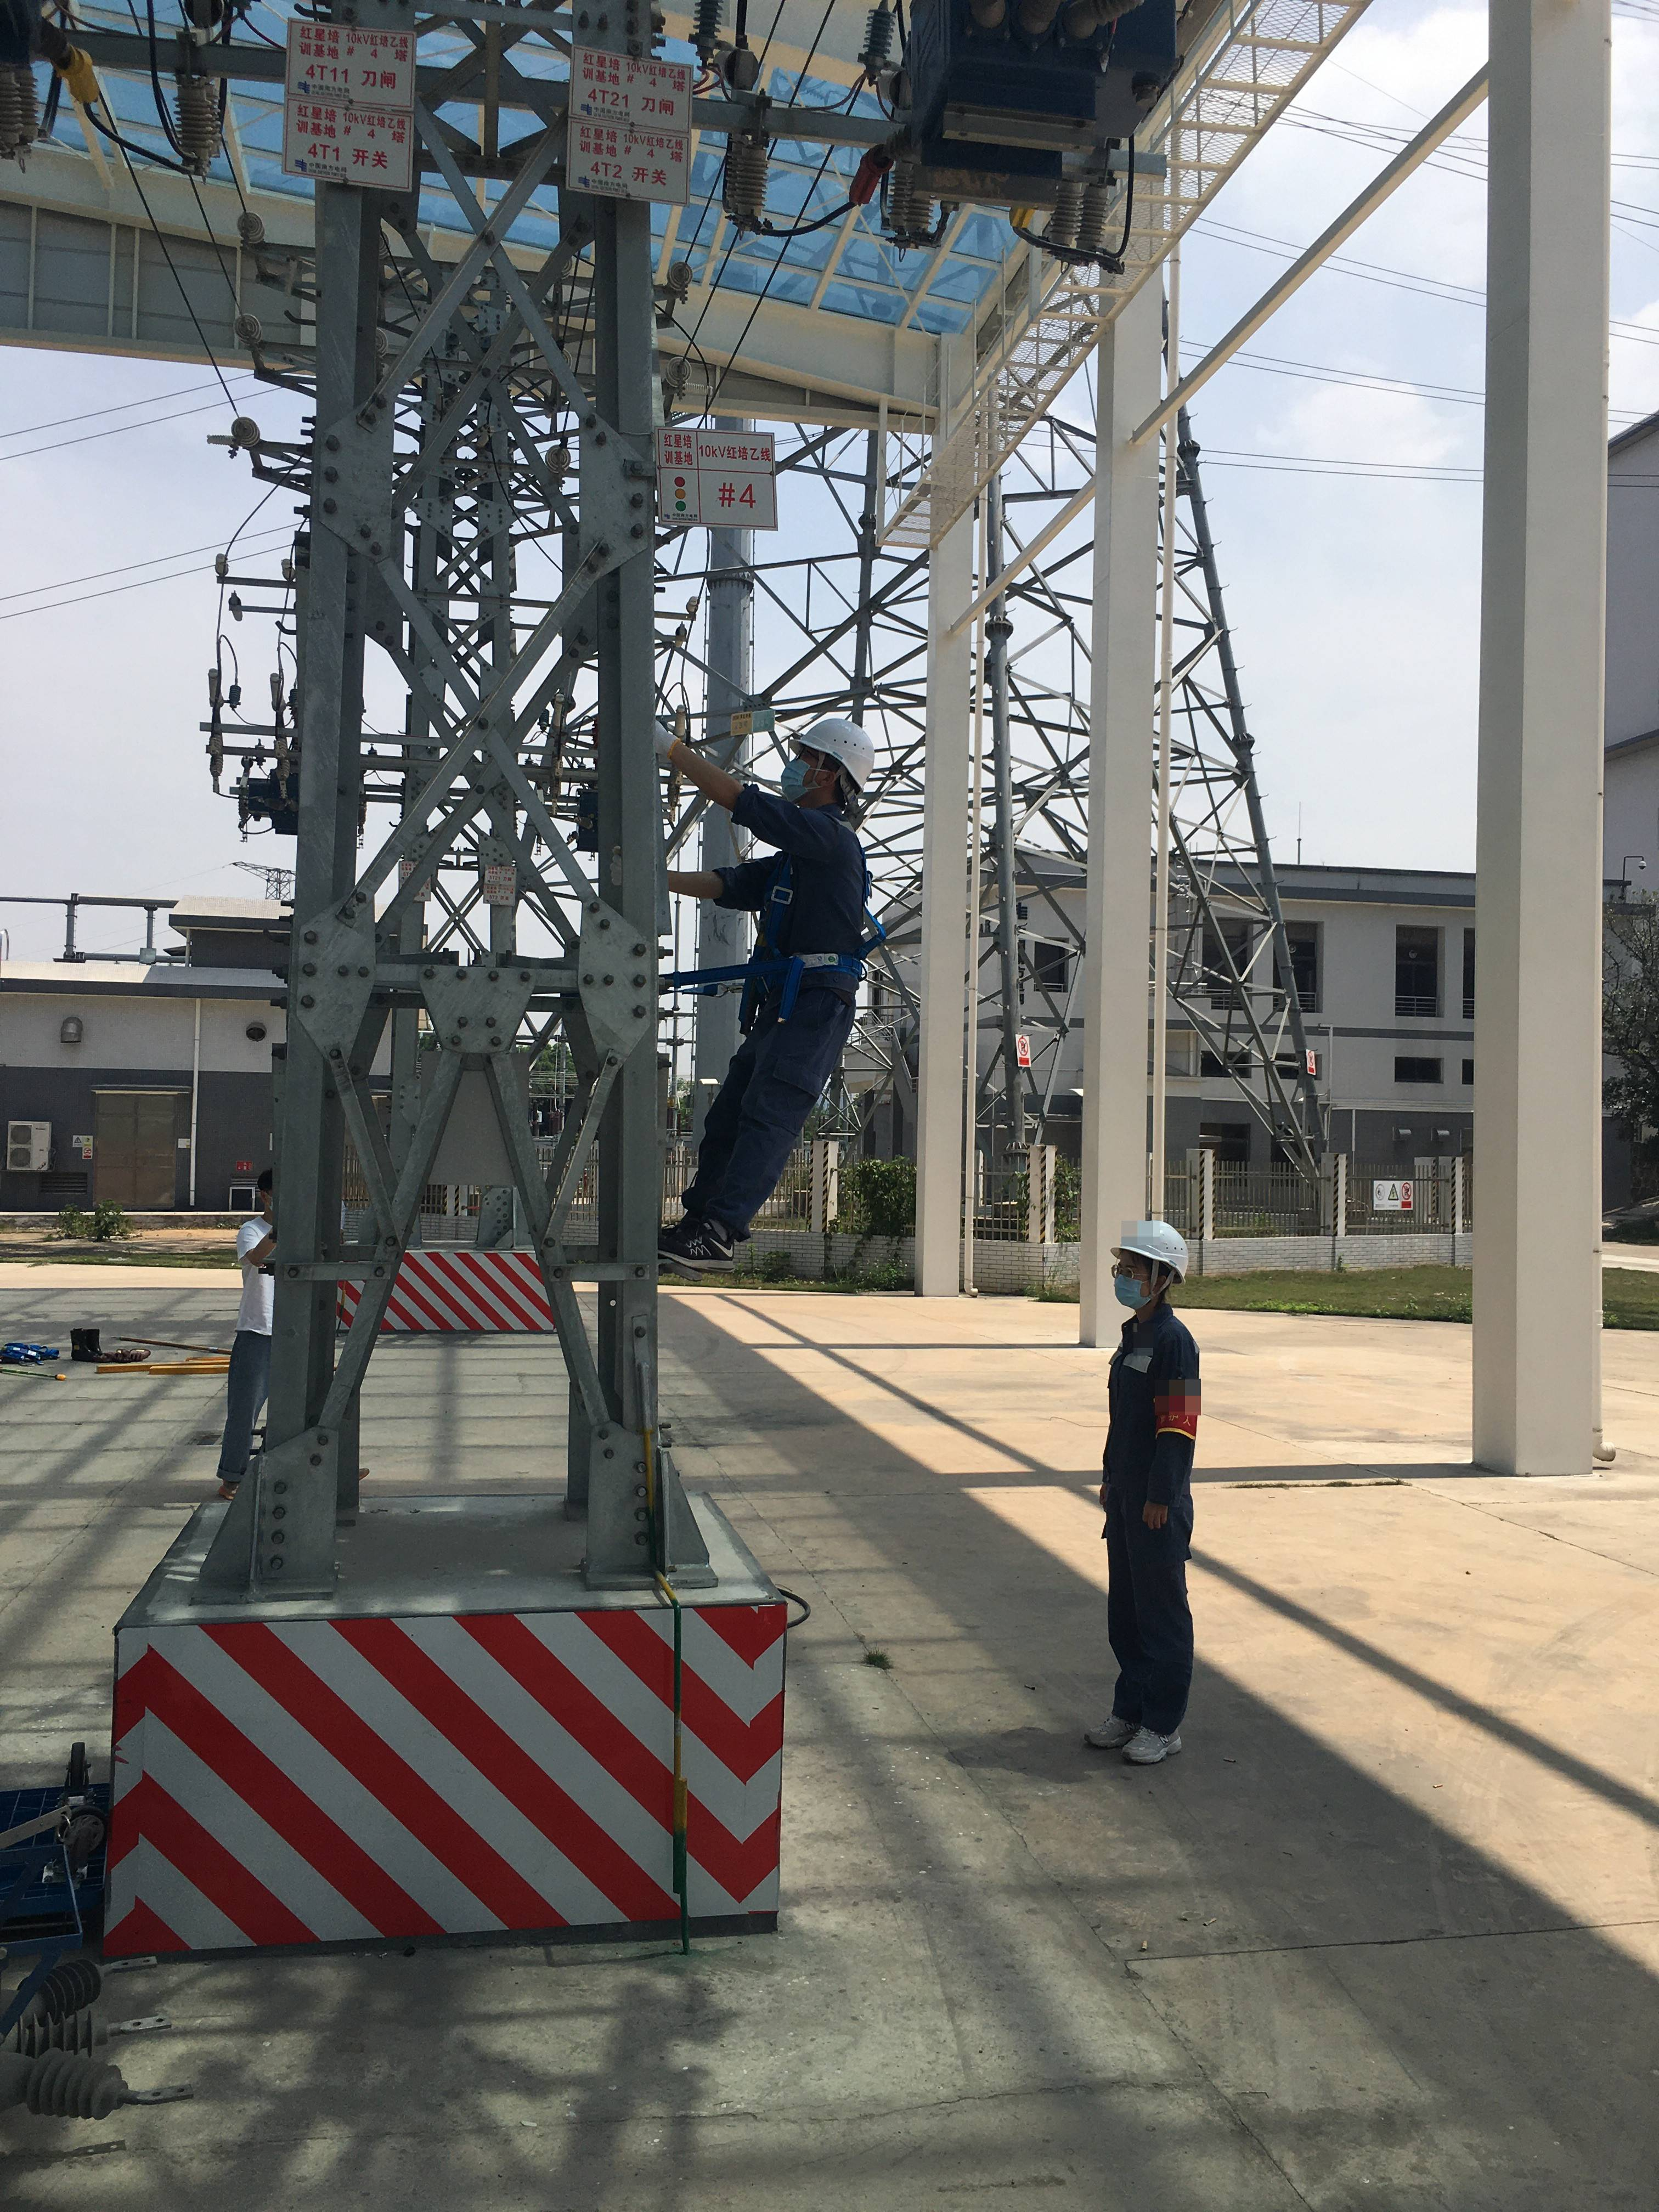downsuit: (704, 996, 863, 1231), (1107, 1517, 1199, 1726)
upsuit: (739, 819, 868, 995), (1100, 1329, 1192, 1505)
wrongtop: (666, 737, 769, 827), (664, 859, 751, 911)
